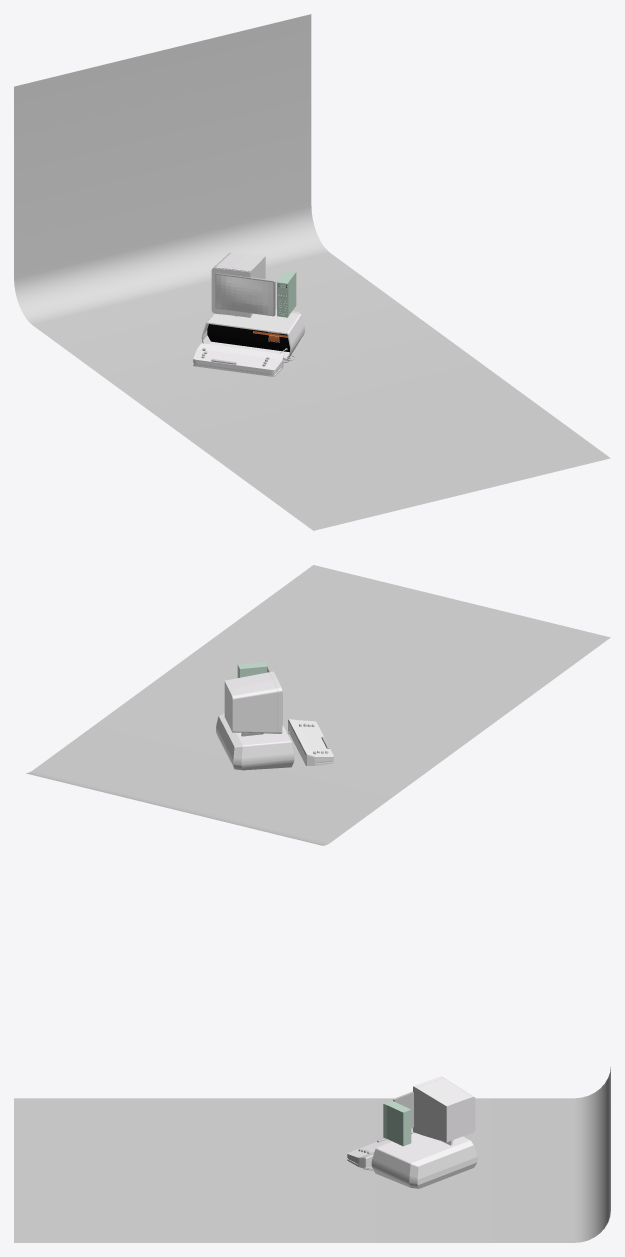
Rendered from retro-computer-transformed.glb.
3 renders of one model, top to bottom at view 1: azimuth 30°, elevation 25°; view 2: azimuth 150°, elevation 25°; view 3: azimuth 270°, elevation 25°, orthographic.
Parts seen in each view (by area): view 1: wire-whole, CBU-NEW; view 2: wire-whole, CBU-NEW; view 3: wire-whole, CBU-NEW.
Boxes of the visible parts, x1,y1,x2,y2 form: wire-whole: (14,14,610,530); CBU-NEW: (193,252,304,376); wire-whole: (26,565,610,845); CBU-NEW: (216,661,333,770); wire-whole: (14,1067,610,1242); CBU-NEW: (347,1076,477,1188).
Bounding box in the file's own units: 2.13 × 1.54 × 3.71.
Materials: 2 (2 with a texture image).
